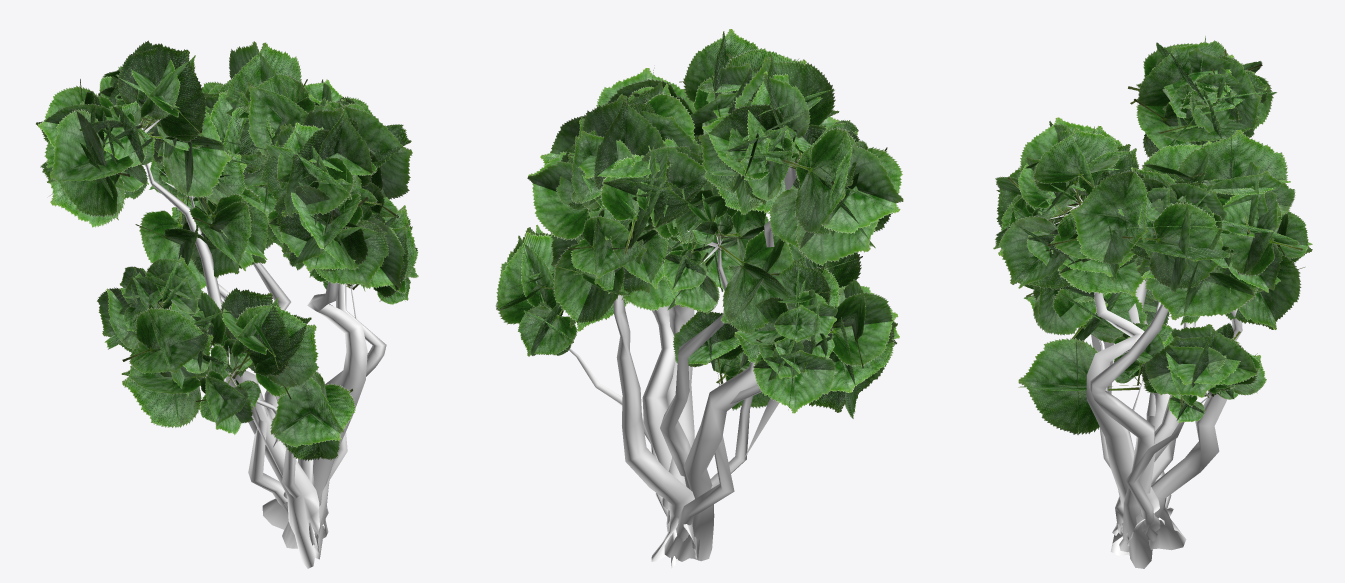
File: OptimizedTree.fbx
The picture shows the model from 3 angles, left to right: view 1: azimuth 30°, elevation 25°; view 2: azimuth 150°, elevation 25°; view 3: azimuth 270°, elevation 25°; orthographic projection. The views are drawn at different scales.
Visible parts, largest first — view 1: OptimizedTree; view 2: OptimizedTree; view 3: OptimizedTree.
Boxes of the visible parts, box(x1,y1,x2,y2) form: OptimizedTree: box(36, 40, 418, 568); OptimizedTree: box(495, 29, 903, 568); OptimizedTree: box(993, 36, 1312, 568).
Size of the model in its own units: 52.12 by 68.99 by 46.35.
